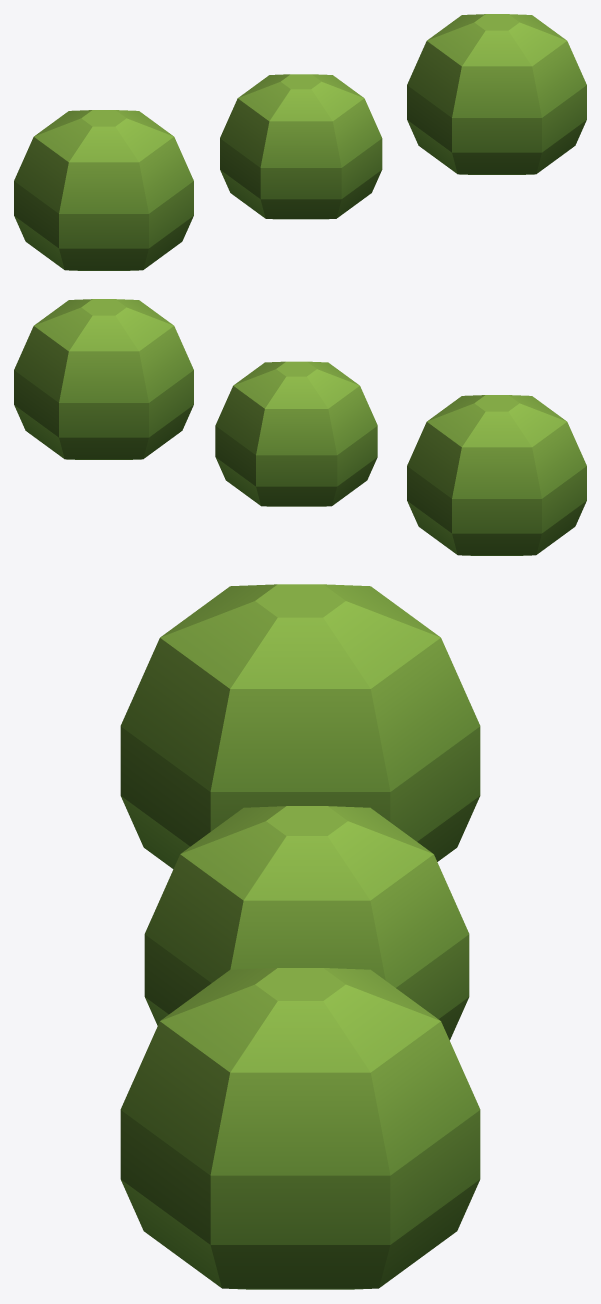
Rendered from bush set.fbx.
The picture shows the model from 3 angles, top to bottom: view 1: azimuth 30°, elevation 25°; view 2: azimuth 150°, elevation 25°; view 3: azimuth 270°, elevation 25°; orthographic projection. The views are drawn at different scales.
Parts seen in each view (by area): view 1: bush_set; view 2: bush_set; view 3: bush_set.
Part boxes in pixels (x1,y1,x2,y2): bush_set: (14,14,586,270); bush_set: (14,299,586,555); bush_set: (120,584,480,1289).
Bounding box in the file's own units: 423 × 103 × 125.
1 material, 1 textured.
